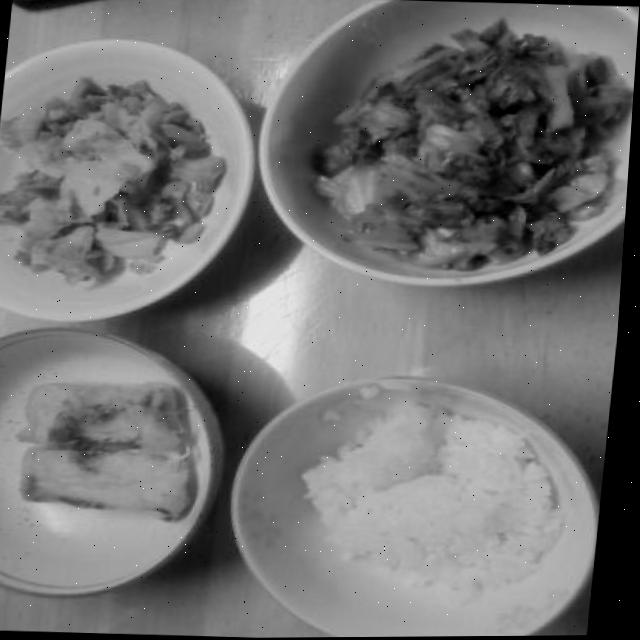蔬菜料理: (251, 0, 640, 301)
